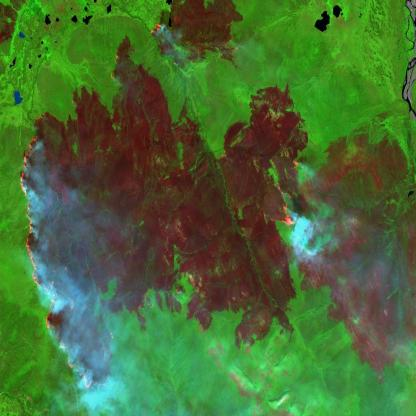fire: (18, 107, 125, 400), (269, 154, 307, 234), (142, 15, 169, 49)
